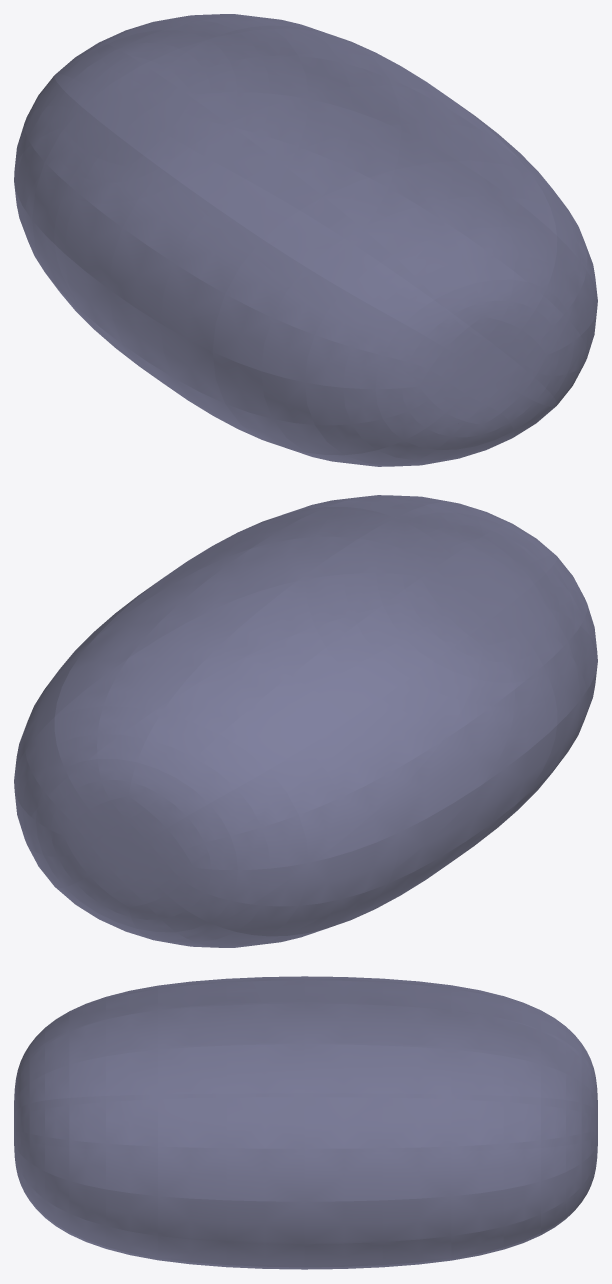
The model's file is purpleGem.fbx.
3 renders of one model, top to bottom at view 1: azimuth 30°, elevation 25°; view 2: azimuth 150°, elevation 25°; view 3: azimuth 270°, elevation 25°, orthographic. The views are drawn at different scales.
Parts seen in each view (by area): view 1: subdivisio; view 2: subdivisio; view 3: subdivisio.
Boxes of the visible parts, <box> form: subdivisio: <box>14,14,597,466</box>; subdivisio: <box>14,495,597,947</box>; subdivisio: <box>14,976,597,1269</box>.
Size of the model in its own units: 19.04 by 13.46 by 29.84.
